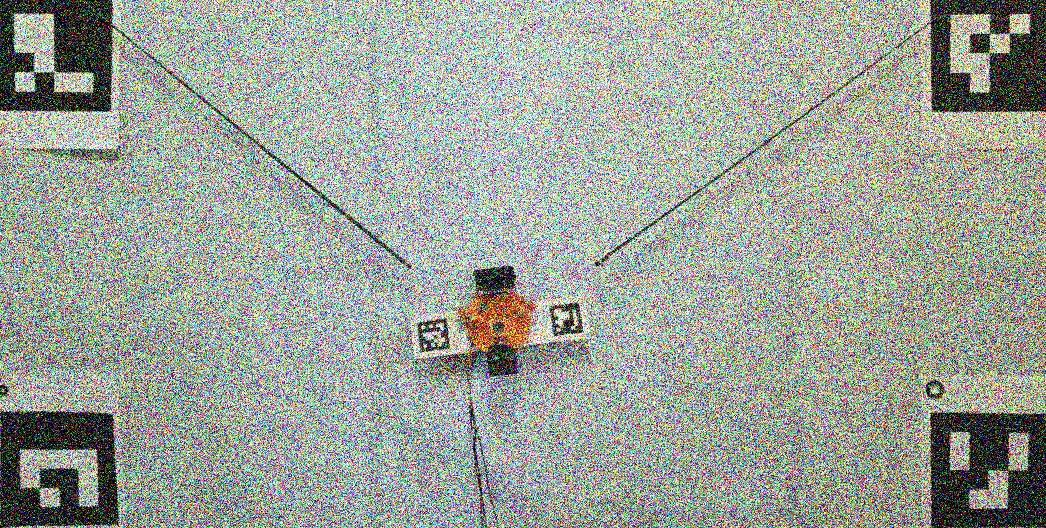obstacle: (459, 267, 536, 376)
